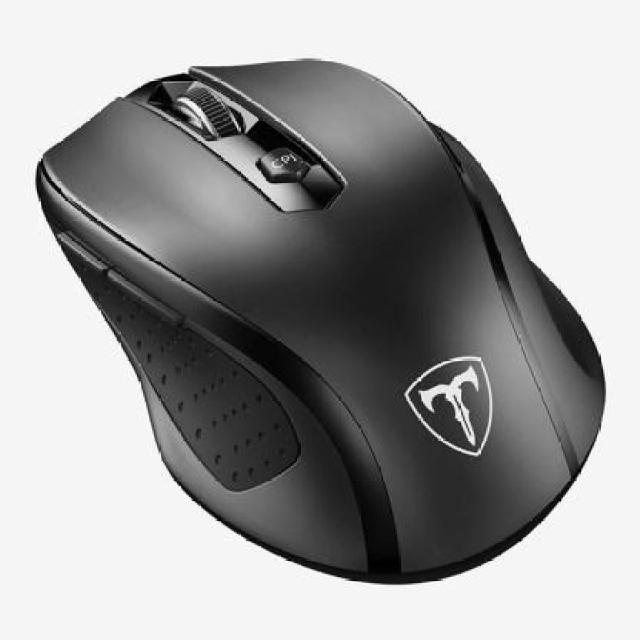not trash: (37, 59, 606, 582)
